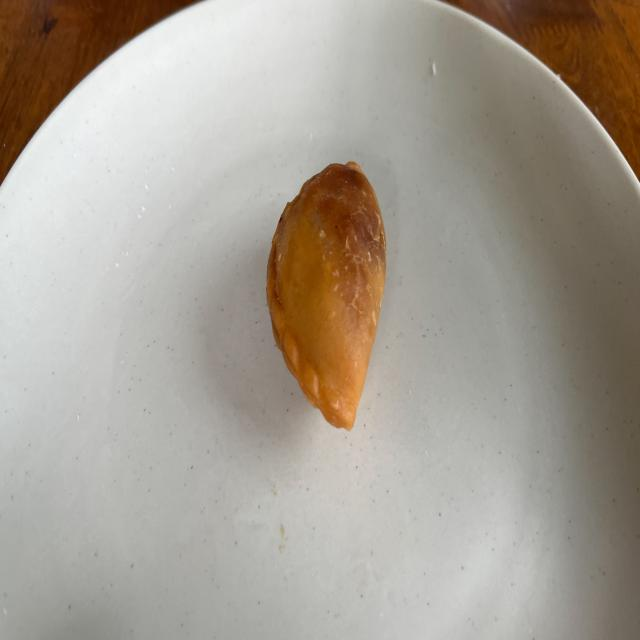karipap: (266, 162, 386, 429)
